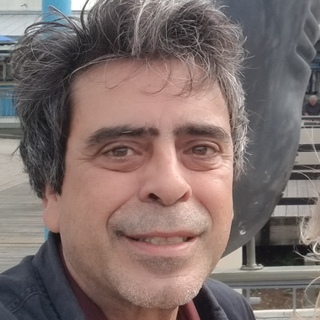eye: (94, 142, 145, 161), (180, 140, 223, 162)
